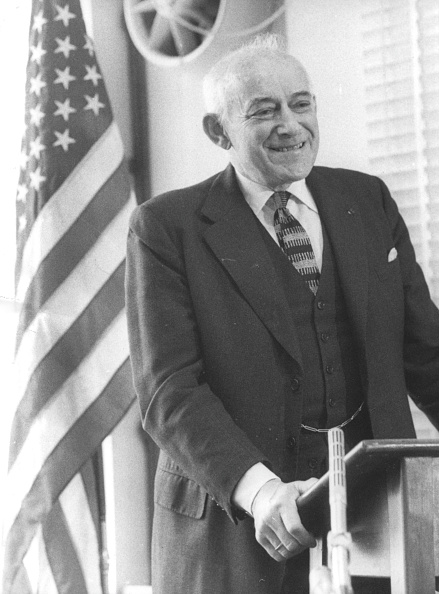em pe: (101, 25, 439, 593)
